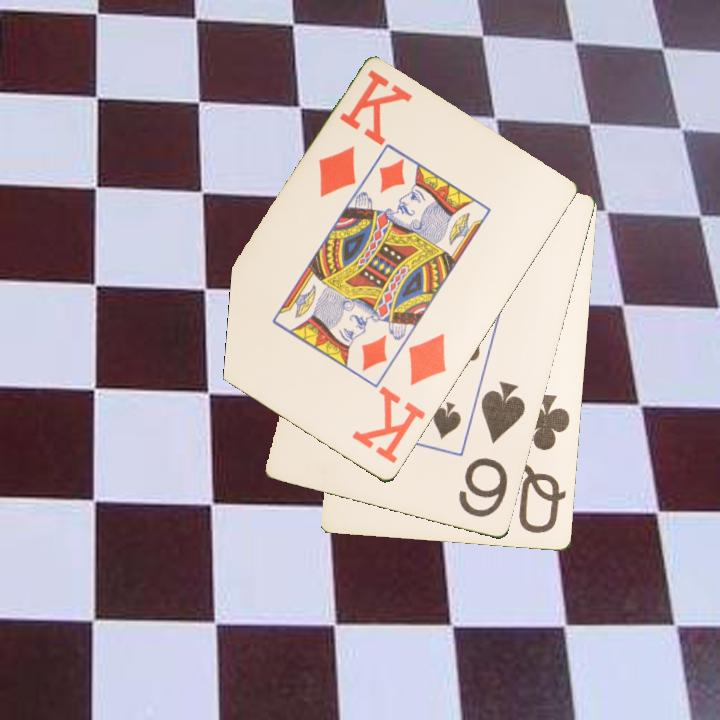6s: (455, 378, 529, 521)
Kd: (348, 330, 450, 467), (315, 66, 414, 201)
Qc: (514, 390, 574, 537)
